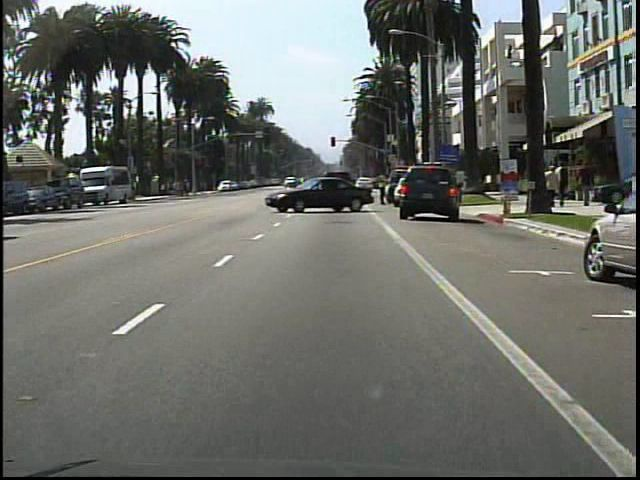person: (576, 155, 598, 207), (555, 159, 570, 211), (376, 170, 393, 210), (547, 164, 558, 211)
